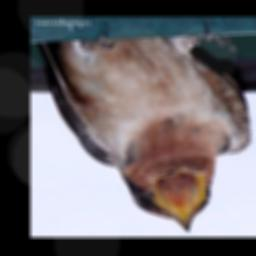Swallow: (37, 23, 252, 233)
